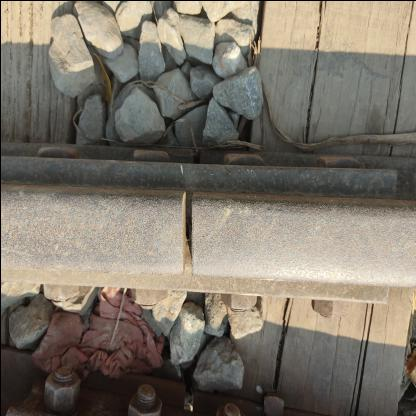Non Defective 2: (150, 178, 230, 302)
Non Defective 3: (1, 115, 383, 212)
